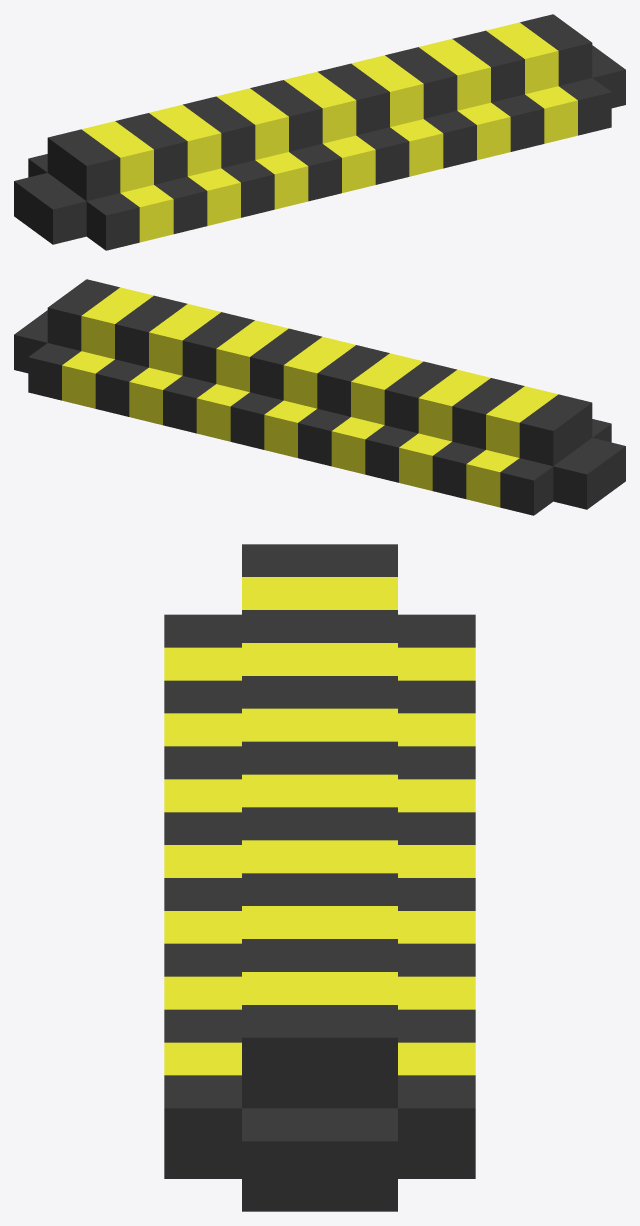
File: progZwalniajacy.obj
The picture shows the model from 3 angles, top to bottom: view 1: azimuth 30°, elevation 25°; view 2: azimuth 150°, elevation 25°; view 3: azimuth 270°, elevation 25°; orthographic projection. The views are drawn at different scales.
Size of the model in its own units: 1.7 by 0.2 by 0.4.
